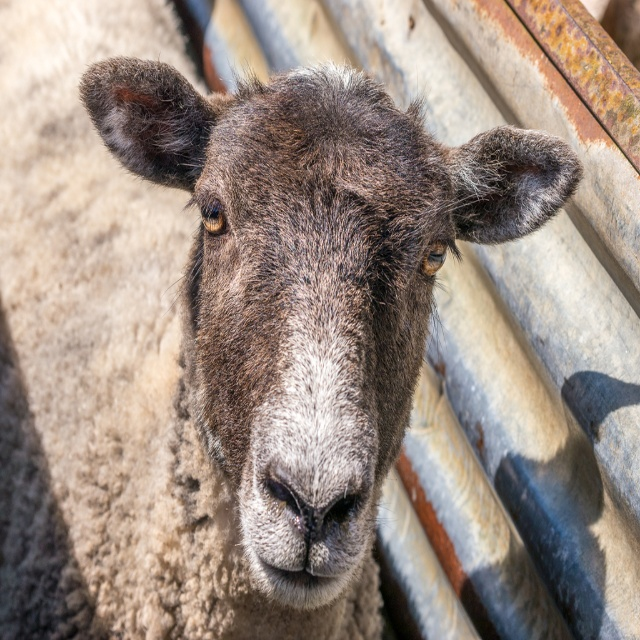Sheep: (0, 0, 582, 639)
